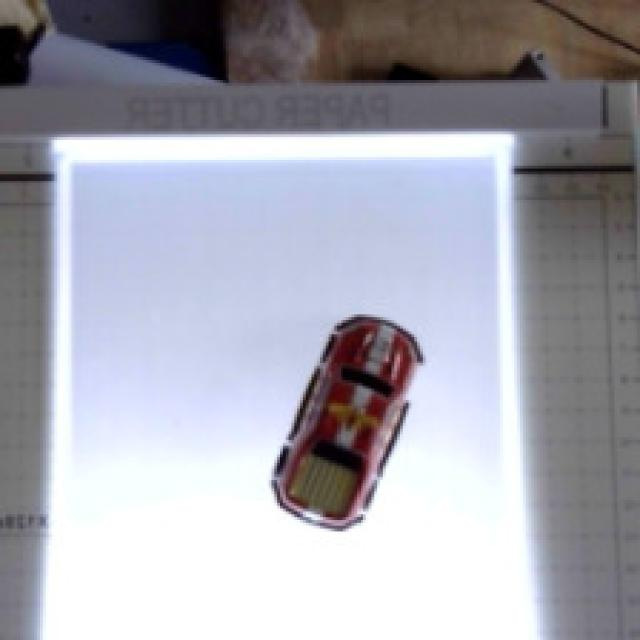Red Car: (206, 296, 443, 573)
